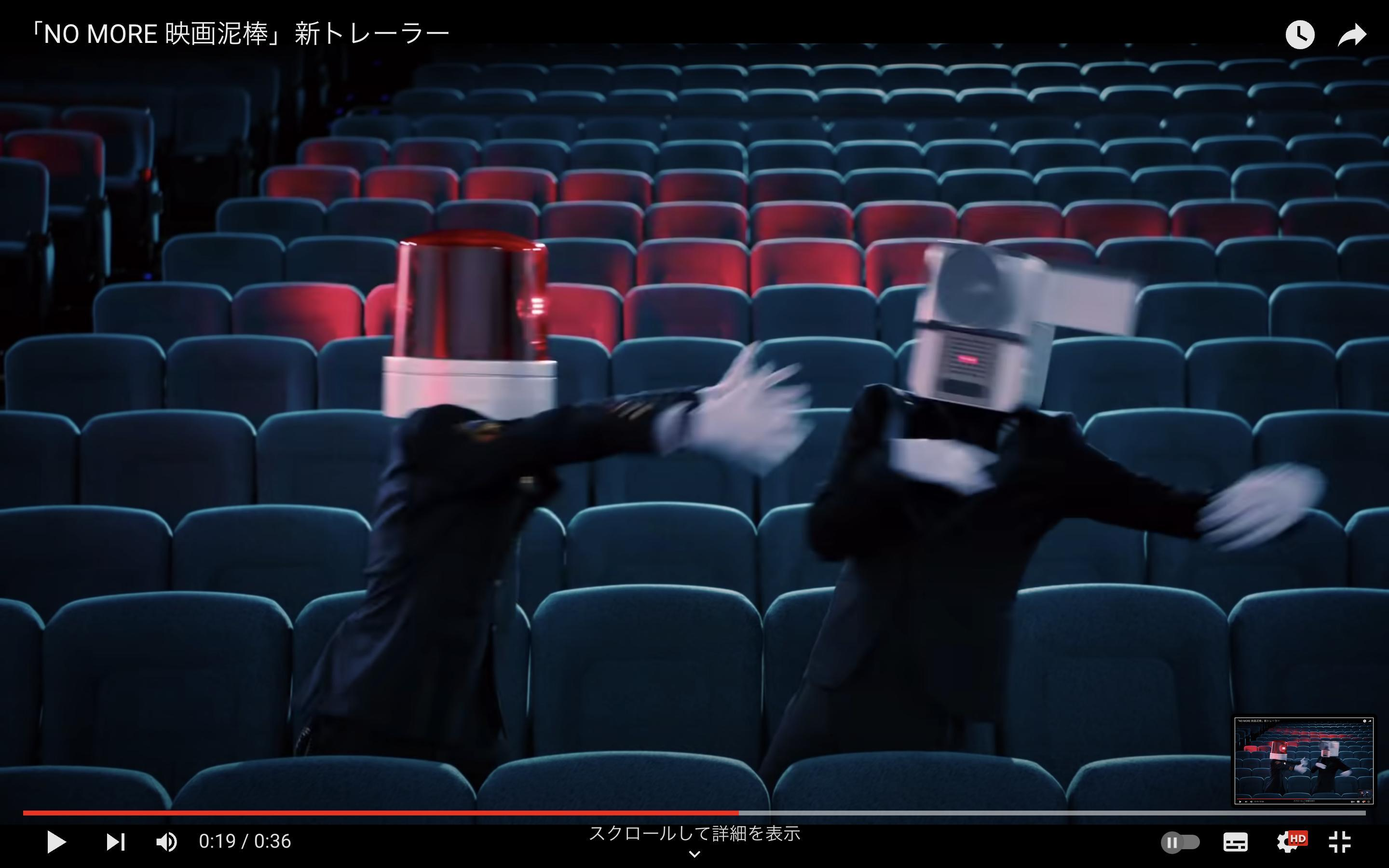no more kid: (891, 227, 1162, 435)
